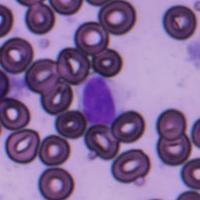L: (76, 73, 126, 126)
